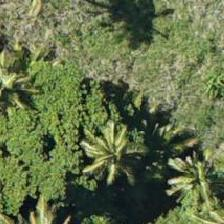coconut_tree: (69, 104, 159, 194), (153, 129, 223, 219)
